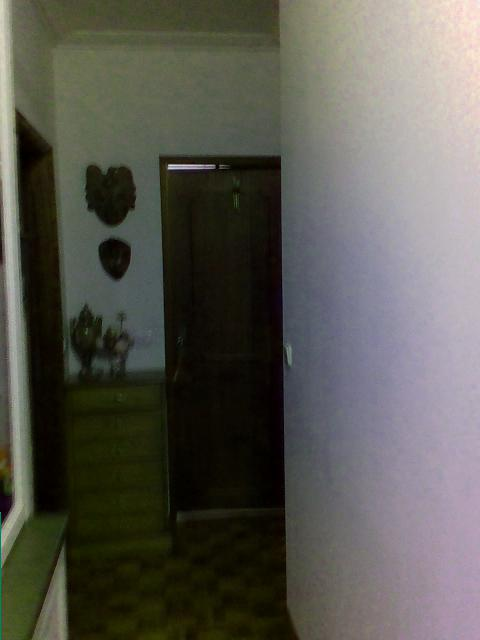closed_door: (157, 155, 280, 522)
